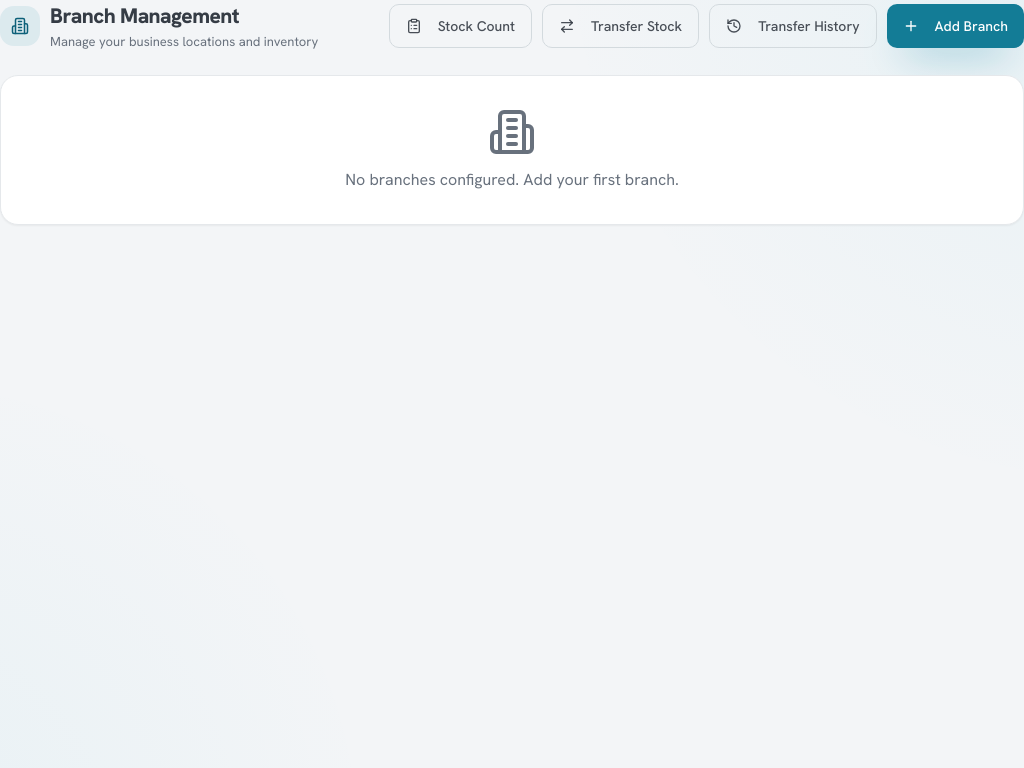
BranchManagement form input labelling a11y (ISSUE-226) › names each branch-form control from its visible caption
The width and height of the screenshot is (1024, 768).
Step 1. Click the button "Add Branch" → (955, 26), box [886,4,1023,48]
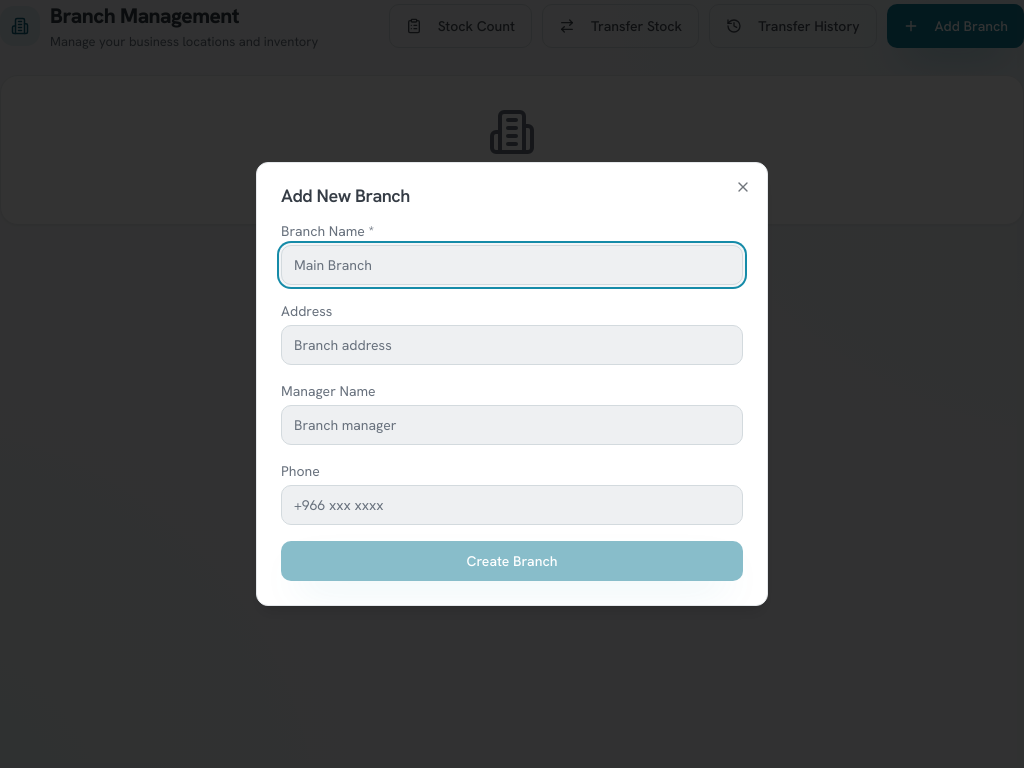
Result: the field labelled "Branch Name *" is shown at [281,245,743,285]
Result: the field labelled "Address" is shown at [281,325,743,365]
Result: the field labelled "Manager Name" is shown at [281,405,743,445]
